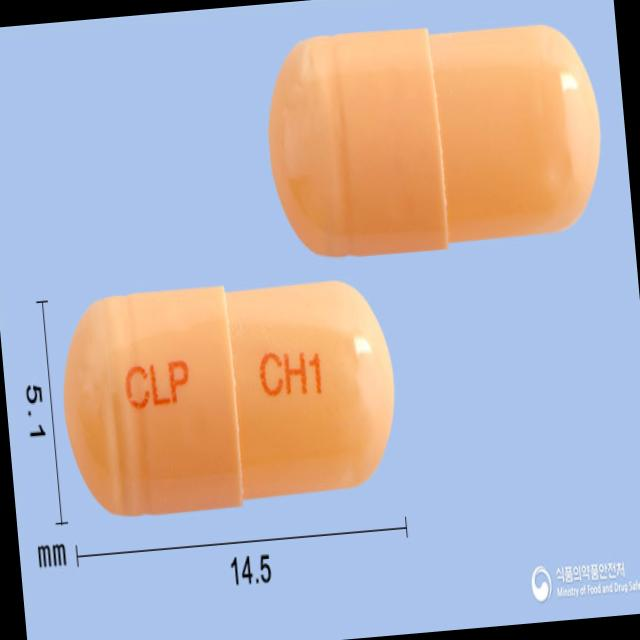Ceprion Cap: (51, 264, 409, 526)
